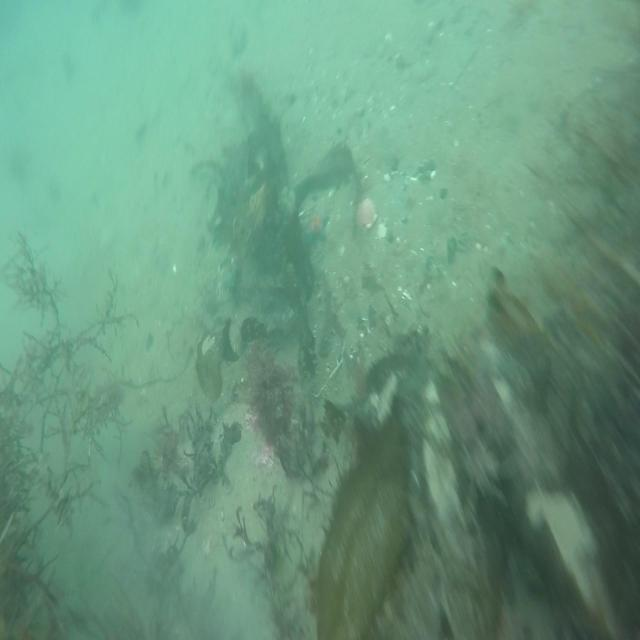holothurian: (312, 268, 337, 364)
scallop: (354, 195, 378, 232)
starfish: (299, 203, 332, 254)
